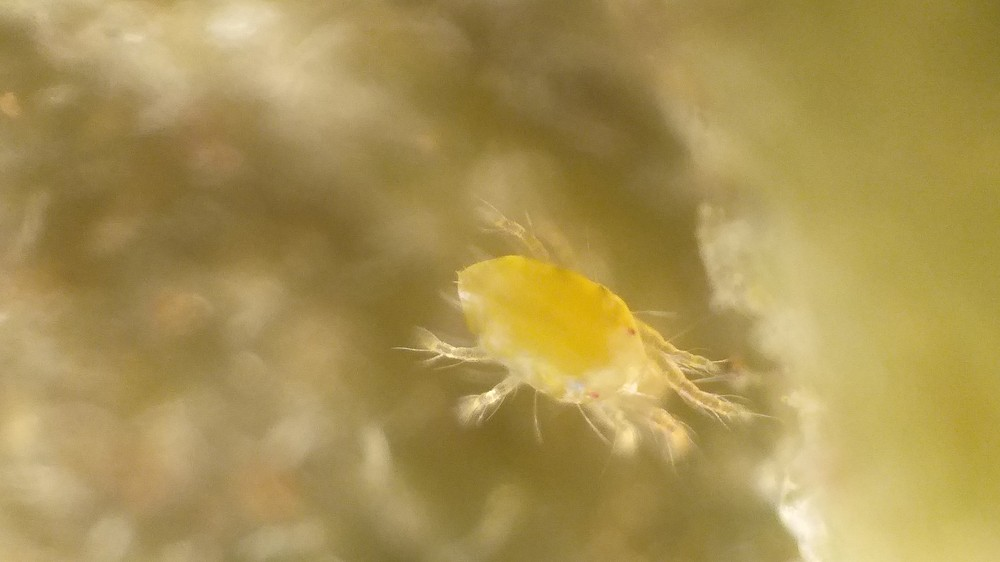Aracnido Rojo: (360, 189, 768, 503)
